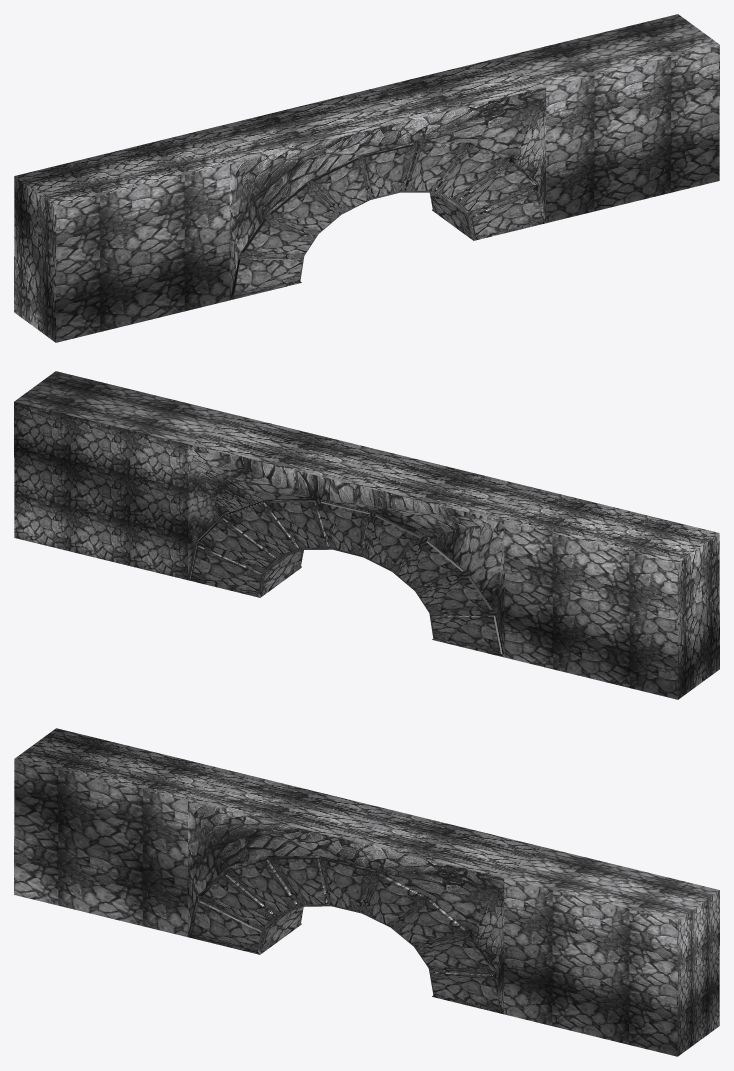
Rendered from puente.obj.
The picture shows the model from 3 angles, top to bottom: view 1: azimuth 30°, elevation 25°; view 2: azimuth 150°, elevation 25°; view 3: azimuth 330°, elevation 25°; orthographic projection.
Parts seen in each view (by area): view 1: Plane; view 2: Plane; view 3: Plane.
Part boxes in pixels (x1,y1,x2,y2): Plane: [14, 14, 719, 342]; Plane: [14, 371, 719, 699]; Plane: [14, 728, 719, 1056].
Size of the model in its own units: 13.39 by 2.62 by 1.46.
